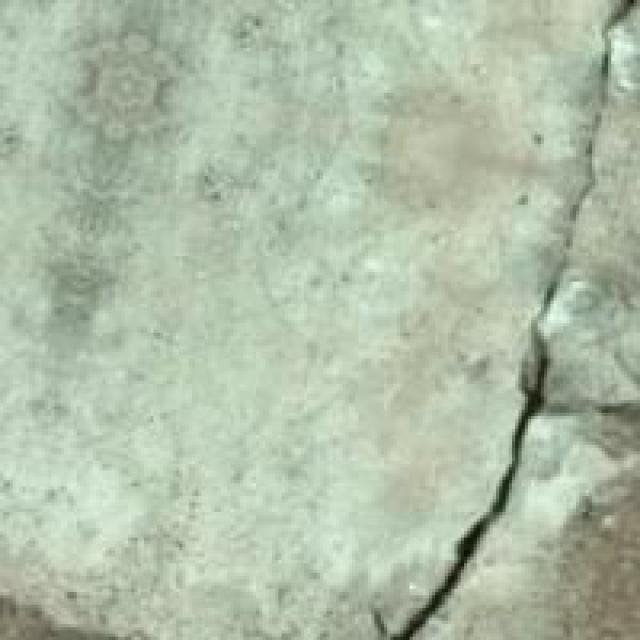Crack: (368, 0, 618, 637)
